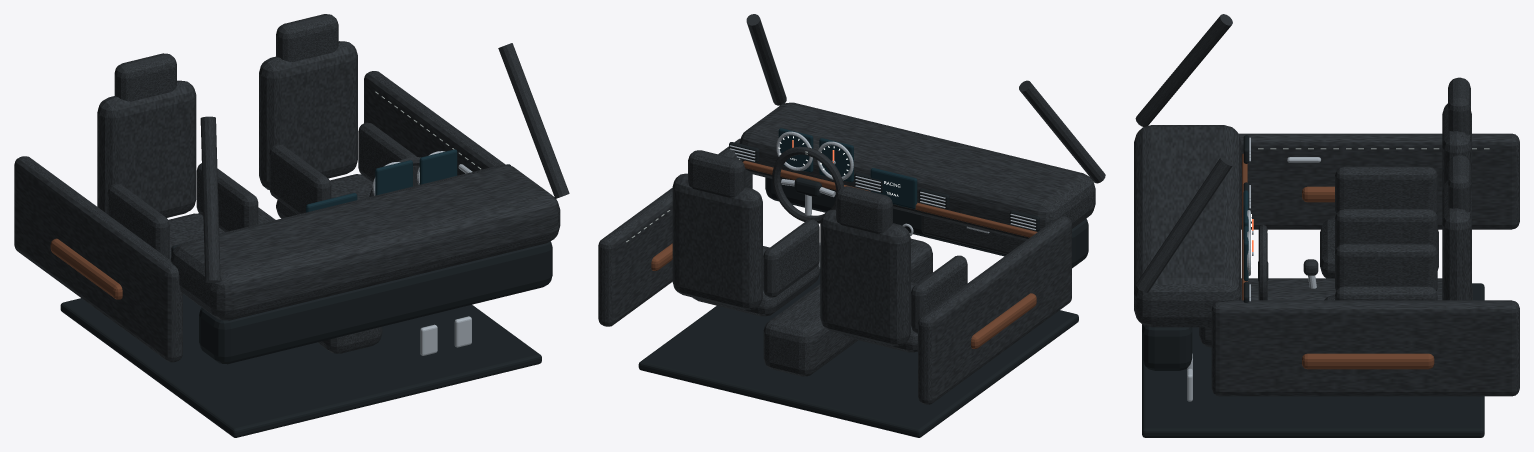
File: sedan.glb
3 renders of one model, left to right at view 1: azimuth 30°, elevation 25°; view 2: azimuth 150°, elevation 25°; view 3: azimuth 270°, elevation 25°, orthographic. The views are drawn at different scales.
Visible parts, largest first — view 1: Cabin Grained charcoal leather, Cabin Soft black polymer, Cabin Display glass, Cabin Cabin trim, Cabin Brushed aluminium; view 2: Cabin Grained charcoal leather, Cabin Soft black polymer, Cabin Cabin trim, Cabin Display glass, Cabin Brushed aluminium, Leather steering rim; view 3: Cabin Grained charcoal leather, Cabin Soft black polymer, Cabin Cabin trim, Cabin Brushed aluminium, Leather steering rim, Cabin Display glass.
Boxes of the visible parts, x1=… form: Cabin Grained charcoal leather: x1=14, y1=14, x2=569, y2=362; Cabin Soft black polymer: x1=60, y1=164, x2=552, y2=437; Cabin Display glass: x1=306, y1=149, x2=457, y2=212; Cabin Cabin trim: x1=50, y1=238, x2=122, y2=299; Cabin Brushed aluminium: x1=372, y1=151, x2=472, y2=355; Cabin Grained charcoal leather: x1=598, y1=14, x2=1105, y2=404; Cabin Soft black polymer: x1=638, y1=142, x2=1088, y2=437; Cabin Cabin trim: x1=651, y1=160, x2=1037, y2=348; Cabin Display glass: x1=778, y1=128, x2=917, y2=209; Cabin Brushed aluminium: x1=729, y1=131, x2=1036, y2=268; Leather steering rim: x1=772, y1=146, x2=843, y2=223; Cabin Grained charcoal leather: x1=1134, y1=14, x2=1519, y2=396; Cabin Soft black polymer: x1=1142, y1=135, x2=1484, y2=437; Cabin Cabin trim: x1=1242, y1=153, x2=1434, y2=369; Cabin Brushed aluminium: x1=1187, y1=137, x2=1320, y2=401; Leather steering rim: x1=1258, y1=224, x2=1267, y2=300; Cabin Display glass: x1=1243, y1=190, x2=1248, y2=281.
Size of the model in its own units: 1.88 by 1.37 by 1.69.
Materials: 8 (1 with a texture image).
